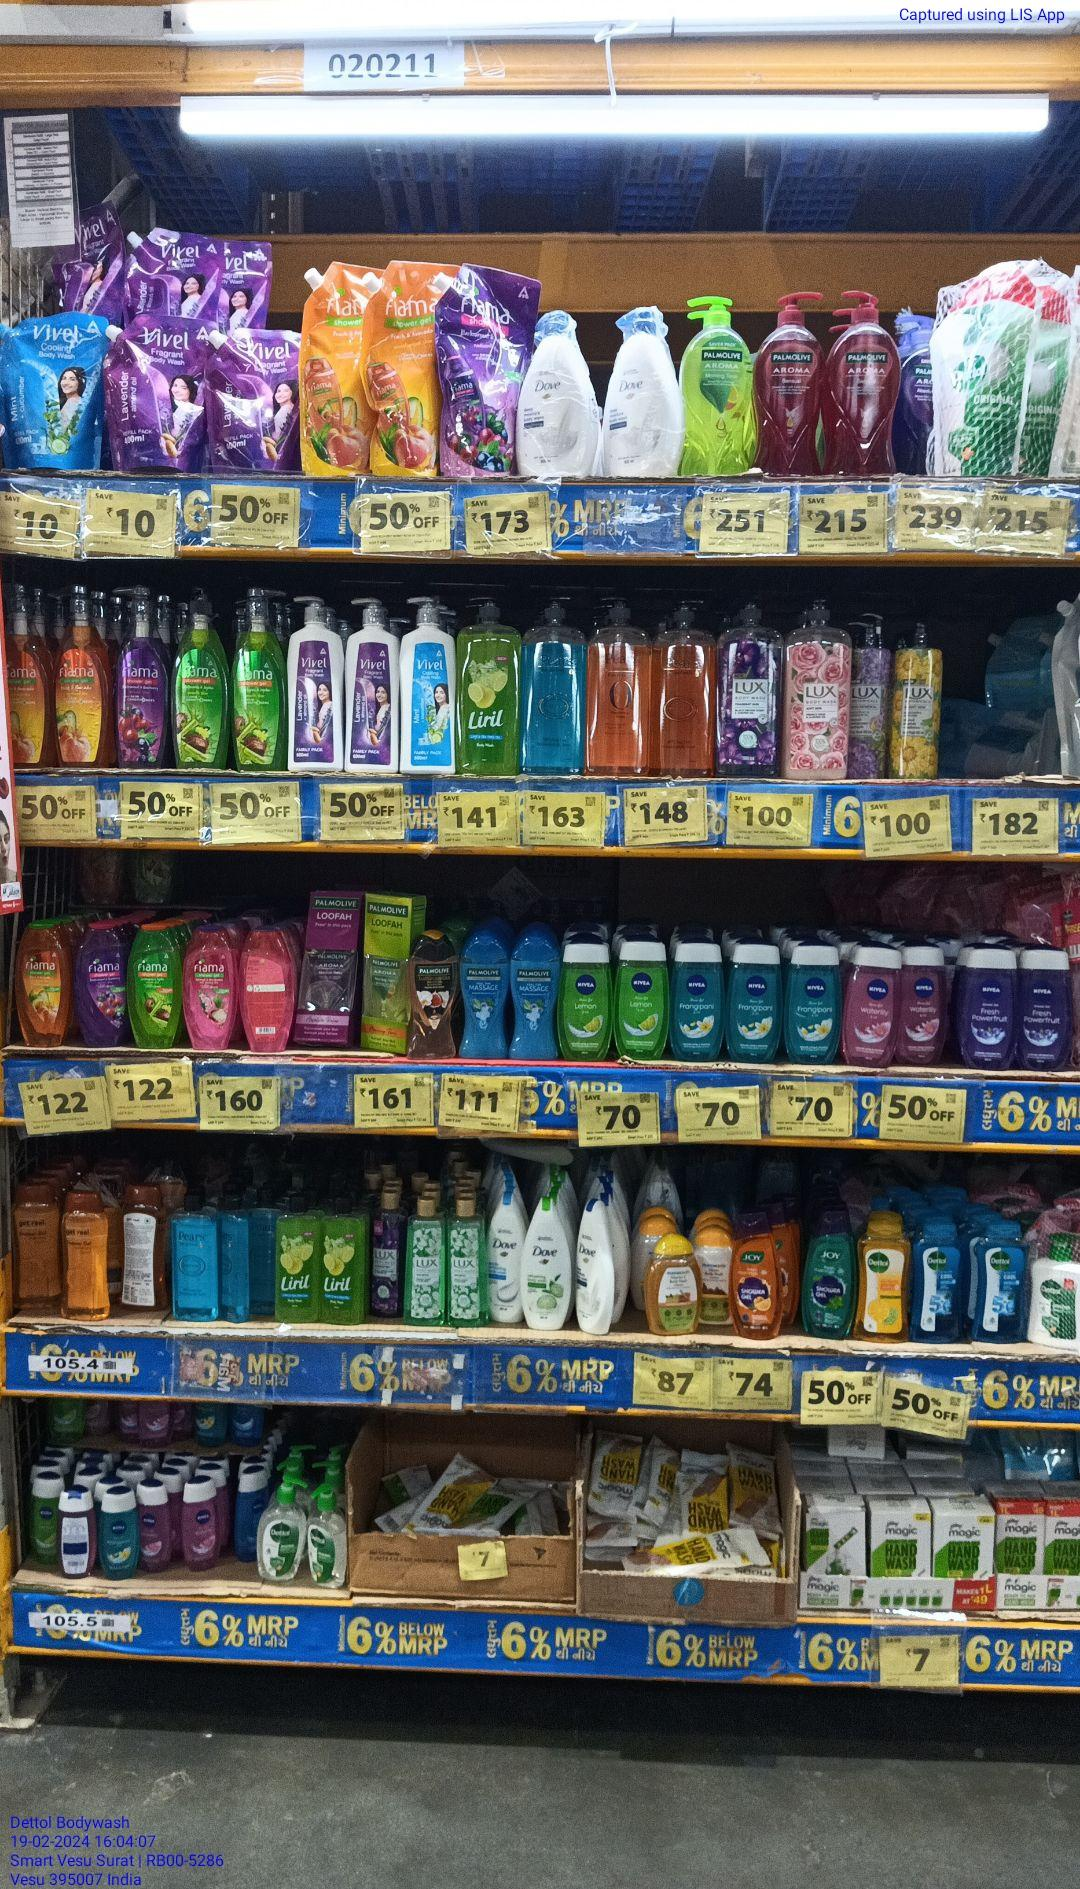Dettol_Bodywash_Cool: (971, 1223, 1029, 1348), (918, 1221, 971, 1343)
Dettol_Bodywash_Refresh: (855, 1214, 914, 1343)
Dove_Deep_Moisture_Body_Wash_250ML: (575, 1199, 620, 1336)
Dove_Gentle_Exfoliating_Body_Wash_250ML: (483, 1188, 522, 1327)
Dove_Refreshing_Body_Wash_250ML: (523, 1196, 571, 1332)
Fiama_Shower_Gel_Lemongrass_and_Jojoba_250ML: (130, 926, 182, 1050)
Fiama_Shower_Gel_Patchouli_and_Macadamia_250ML: (183, 929, 238, 1050)
Fiama_Shower_Gel_Peach_and_Avocado_250ML: (18, 920, 77, 1047)
Joy_Shower_Gel_Mandarin_and_Lemongrass_250ML: (732, 1214, 776, 1340)
Joy_Shower_Gel_Mint_and_Eucalyptus_250ML: (802, 1214, 854, 1340)
Liril_Lime_and_Tea_Tree_Oil_Body_Wash_250ML: (321, 1200, 366, 1325), (275, 1203, 319, 1325)
Lux_Black_Orchid_Scent_and_Juniper_Oil_Body_Wash_245ML: (370, 1187, 404, 1319)
Lux_Body_Wash_Skin_Detox_Freesia_Scent_and_Alove_Vera_245ML: (405, 1199, 444, 1329), (447, 1195, 483, 1329)
Nivea_Shower_Gel_Frangipani_and_Oil_250ML: (781, 943, 841, 1066), (670, 941, 727, 1065), (728, 946, 781, 1065)
Nivea_Shower_Gel_Fresh_Powerfruit_250ML: (958, 946, 1022, 1074), (1022, 946, 1076, 1070)
Nivea_Shower_Gel_Lemon_and_Oil_250ML: (559, 939, 614, 1061), (615, 937, 669, 1059)
Nivea_Shower_Gel_Waterlily_and_Oil_250ML: (842, 942, 898, 1068), (898, 944, 950, 1064)
Palmolive_Aroma_Moments_Feel_The_Massage_Shower_Gel_250ML: (461, 935, 510, 1060), (511, 938, 558, 1061)
Pears_Pure_Glycerin_and_Mint_Extracts_Body_Wash_250ML: (170, 1192, 221, 1323)
